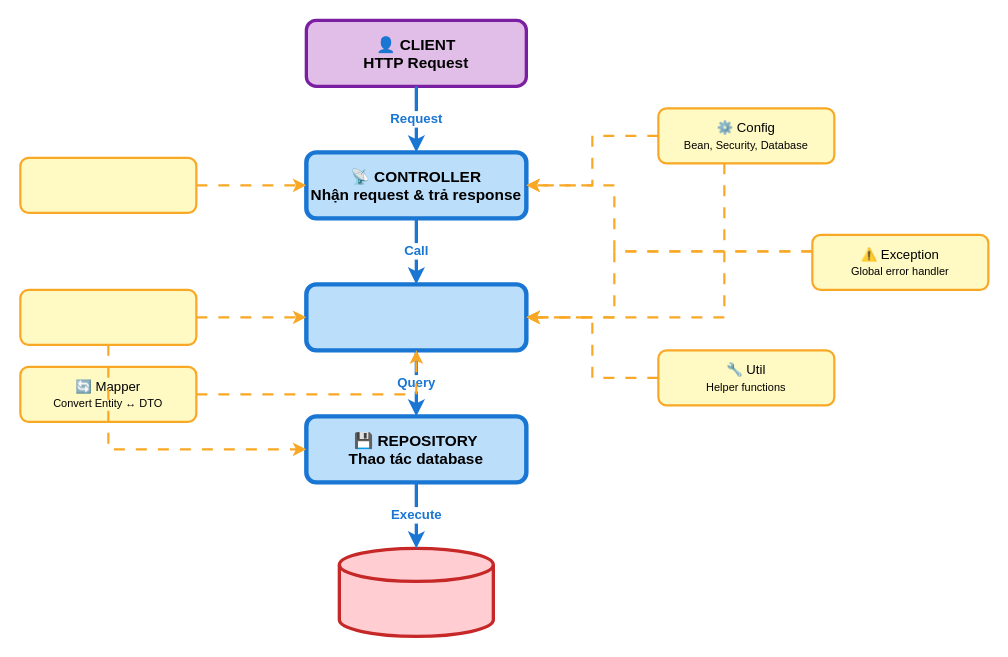
The diagram is 1008 pixels wide and 657 high, and some of its shapes have lost their labels. Each missing label, with the centre of its shape:
⚙️ SERVICE Xử lý business logic: [416,317]
🎯 Domain Entity models (JPA): [108,316]
📦 DTO Request/Response objects: [108,184]
🗄️ DATABASE: [415,591]
